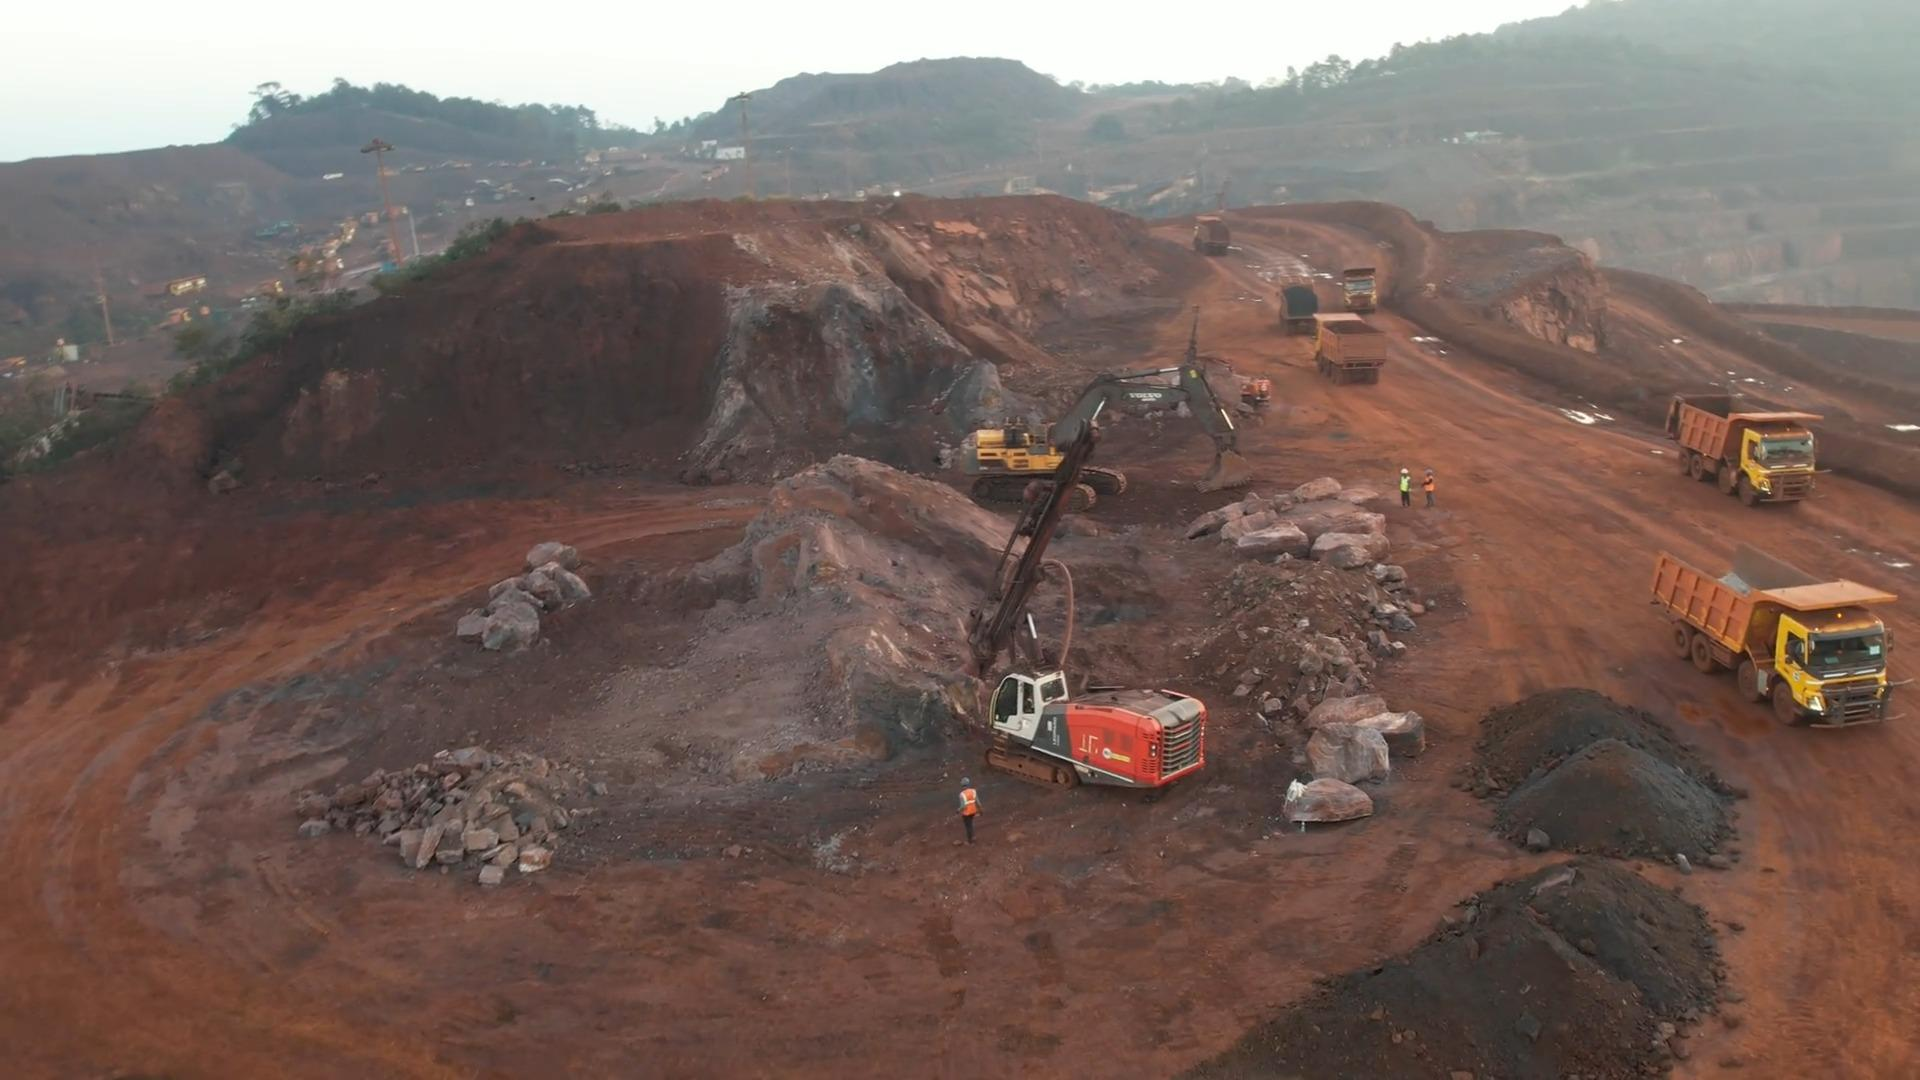excavator: (966, 361, 1242, 497)
